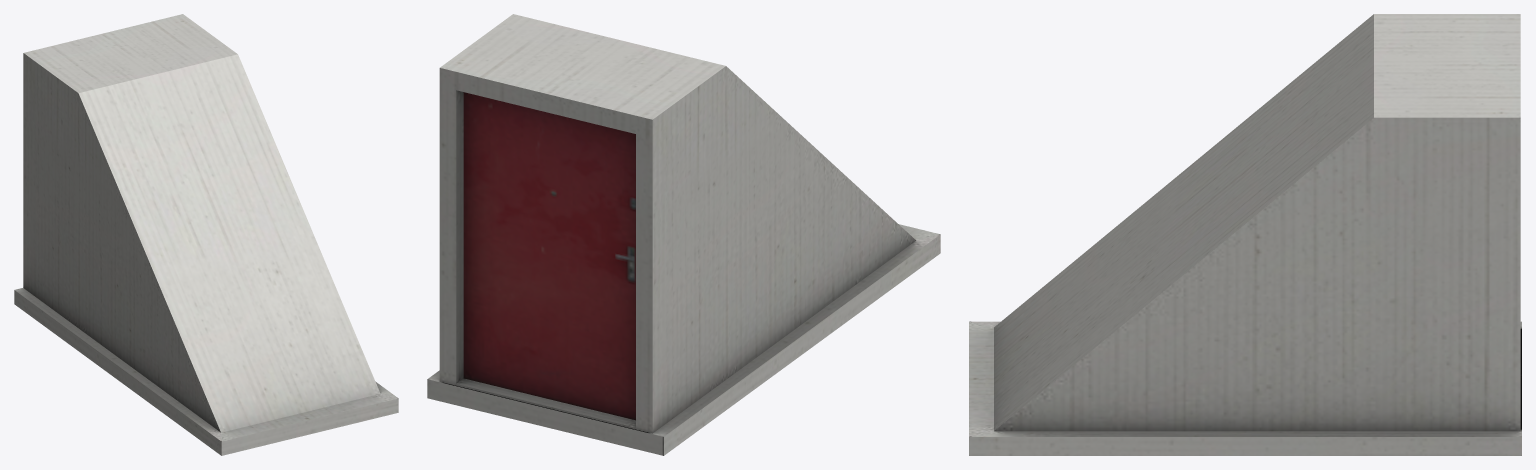
Rendered from stairwell.fbx.
The picture shows the model from 3 angles, left to right: view 1: azimuth 30°, elevation 25°; view 2: azimuth 150°, elevation 25°; view 3: azimuth 270°, elevation 25°; orthographic projection. The views are drawn at different scales.
Visible parts, largest first — view 1: stariwellMesh; view 2: stariwellMesh; view 3: stariwellMesh.
Boxes of the visible parts, x1,y1,x2,y2 form: stariwellMesh: (14,14,398,455); stariwellMesh: (427,14,940,455); stariwellMesh: (969,14,1521,455).
Size of the model in its own units: 209 by 282 by 424.
